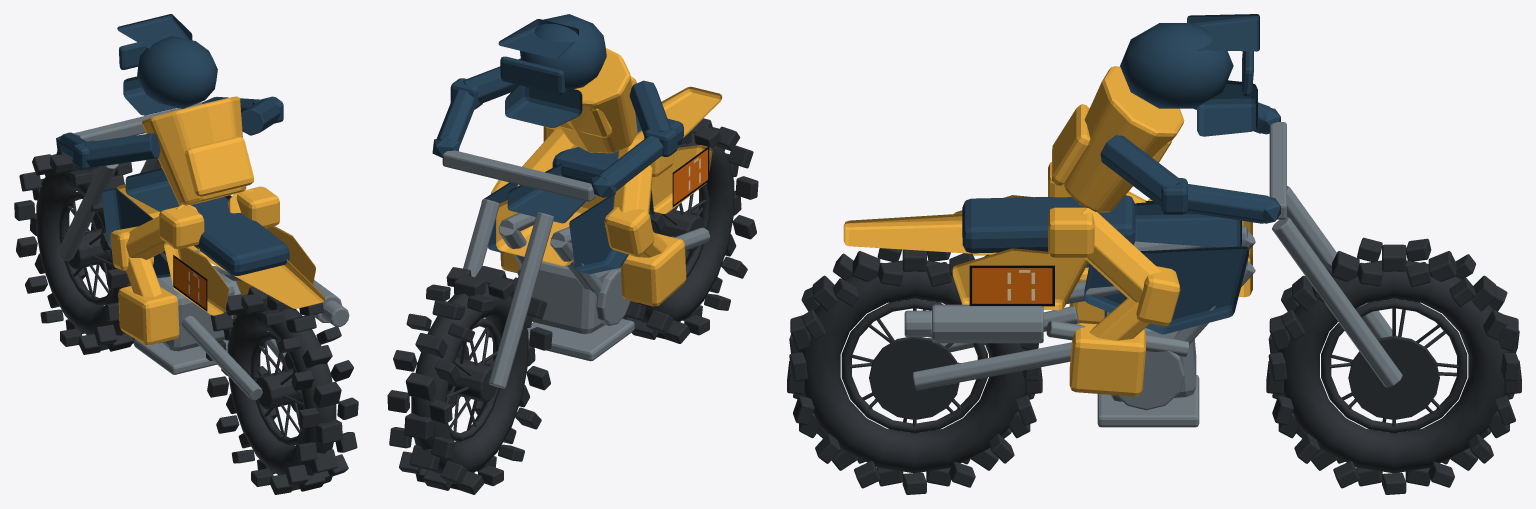
The model's file is rival-pack-raw.glb.
3 renders of one model, left to right at view 1: azimuth 30°, elevation 25°; view 2: azimuth 150°, elevation 25°; view 3: azimuth 270°, elevation 25°, orthographic. The views are drawn at different scales.
Visible parts, largest first — view 1: RearWheel_Wheel, FrontWheel_Wheel, BikeStatic_Hardware, RivalTorso_Primary, BikeStatic_Accent, RivalLeftLeg_Primary, RivalHead_Accent, BikeStatic_Primary, RivalLeftArm_Accent, RivalRightLeg_Primary, RivalRightArm_Accent, BikeStatic_NumberField; view 2: FrontWheel_Wheel, BikeStatic_Hardware, RearWheel_Wheel, RivalHead_Accent, RivalLeftLeg_Primary, BikeStatic_Accent, RivalTorso_Primary, BikeStatic_Primary, RivalLeftArm_Accent, RivalRightArm_Accent, RivalRightLeg_Primary, BikeStatic_NumberField; view 3: FrontWheel_Wheel, RearWheel_Wheel, BikeStatic_Hardware, BikeStatic_Accent, RivalRightLeg_Primary, RivalHead_Accent, RivalTorso_Primary, BikeStatic_Primary, RivalRightArm_Accent, BikeStatic_NumberField, RivalLeftLeg_Primary.
Boxes of the visible parts, bbox=[...] form: RearWheel_Wheel: bbox=[206, 286, 358, 494]; FrontWheel_Wheel: bbox=[14, 151, 134, 354]; BikeStatic_Hardware: bbox=[57, 102, 349, 400]; RivalTorso_Primary: bbox=[142, 96, 253, 205]; BikeStatic_Accent: bbox=[101, 168, 289, 277]; RivalLeftLeg_Primary: bbox=[110, 204, 204, 345]; RivalHead_Accent: bbox=[117, 14, 217, 115]; BikeStatic_Primary: bbox=[116, 184, 324, 315]; RivalLeftArm_Accent: bbox=[56, 132, 160, 169]; RivalRightLeg_Primary: bbox=[228, 186, 279, 295]; RivalRightArm_Accent: bbox=[202, 96, 283, 135]; BikeStatic_NumberField: bbox=[173, 255, 207, 311]; FrontWheel_Wheel: bbox=[387, 266, 552, 494]; BikeStatic_Hardware: bbox=[442, 150, 710, 388]; RearWheel_Wheel: bbox=[622, 118, 758, 343]; RivalHead_Accent: bbox=[498, 14, 606, 127]; RivalLeftLeg_Primary: bbox=[604, 130, 686, 306]; BikeStatic_Accent: bbox=[481, 113, 683, 274]; RivalTorso_Primary: bbox=[558, 48, 637, 153]; BikeStatic_Primary: bbox=[496, 86, 722, 265]; RivalLeftArm_Accent: bbox=[590, 80, 677, 197]; RivalRightArm_Accent: bbox=[432, 58, 520, 157]; RivalRightLeg_Primary: bbox=[491, 126, 577, 273]; BikeStatic_NumberField: bbox=[672, 146, 709, 207]; FrontWheel_Wheel: bbox=[1266, 237, 1521, 494]; RearWheel_Wheel: bbox=[787, 248, 1042, 494]; BikeStatic_Hardware: bbox=[904, 122, 1402, 427]; BikeStatic_Accent: bbox=[962, 195, 1248, 334]; RivalRightLeg_Primary: bbox=[1048, 207, 1180, 396]; RivalHead_Accent: bbox=[1120, 14, 1259, 136]; RivalTorso_Primary: bbox=[1052, 66, 1184, 212]; BikeStatic_Primary: bbox=[843, 195, 1252, 310]; RivalRightArm_Accent: bbox=[1100, 135, 1280, 223]; BikeStatic_NumberField: bbox=[969, 265, 1054, 306]; RivalLeftLeg_Primary: bbox=[1048, 162, 1152, 324].
Size of the model in its own units: 1.45 by 2.47 by 3.62.
Materials: 5 (1 with a texture image).
